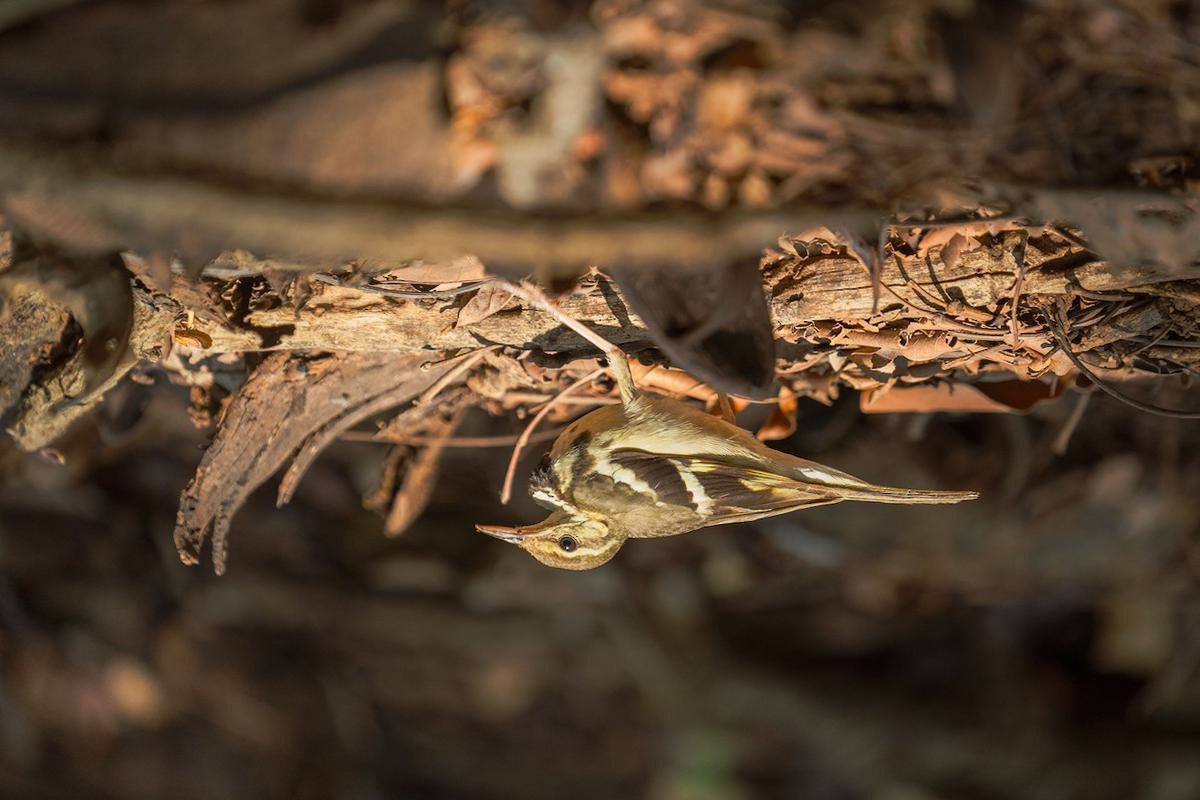wagtail: (483, 327, 929, 596)
